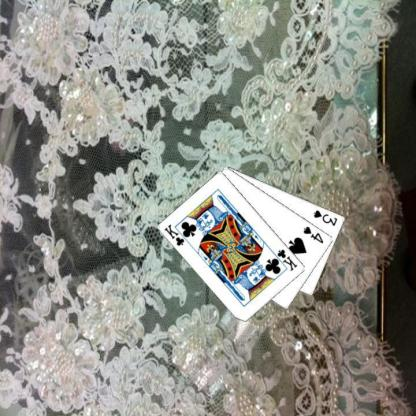3S: (312, 207, 338, 227)
4S: (301, 224, 325, 244)
KC: (270, 247, 299, 272), (162, 222, 190, 247)
